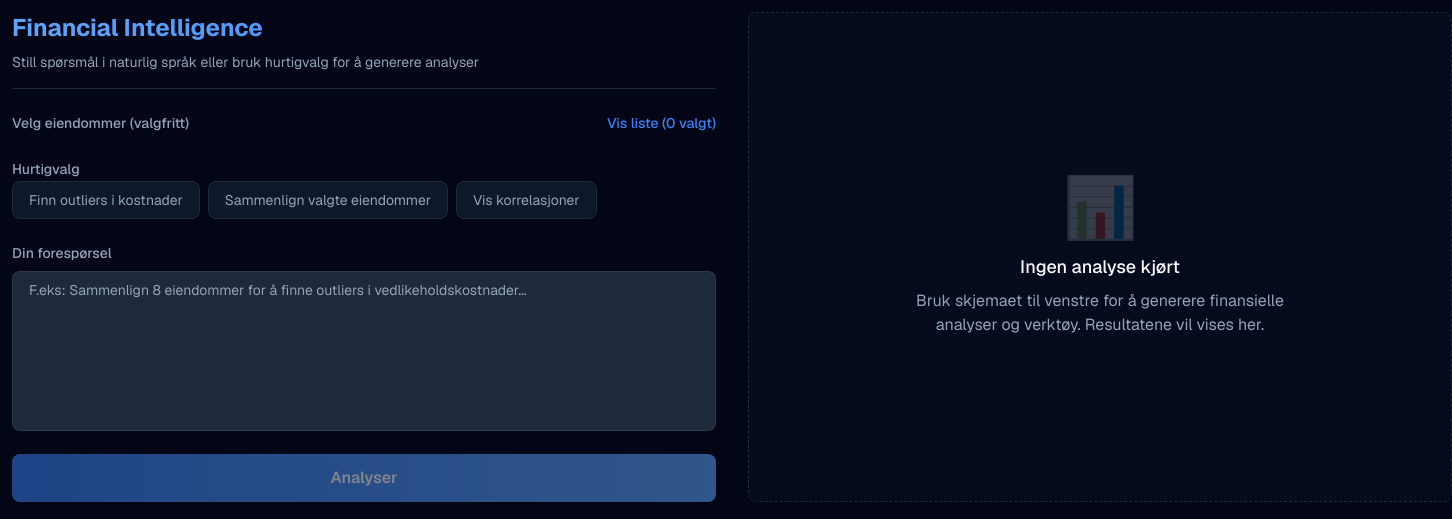
Test: FinancialQueryPanel › submits query and displays result
Replace the text in the text box with placeholder "Sammenlign 8 eiendommer" with "Finn outliers" at (364, 351), box [12, 271, 716, 431]
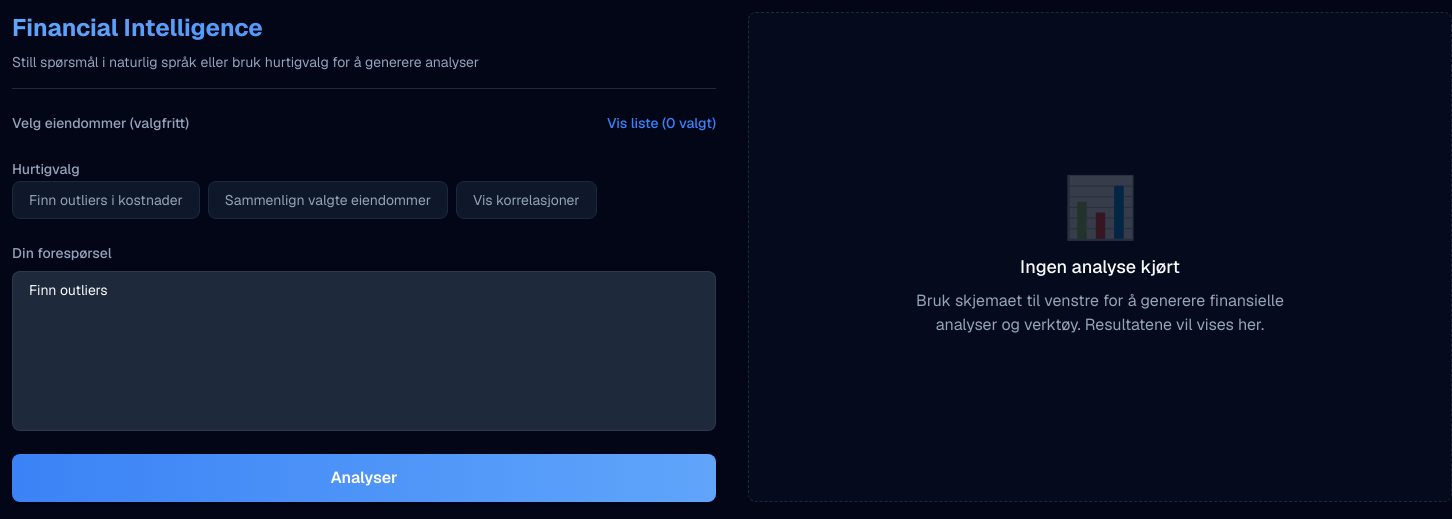
Click the button "Analyser".
click(364, 478)  # box [12, 454, 716, 502]
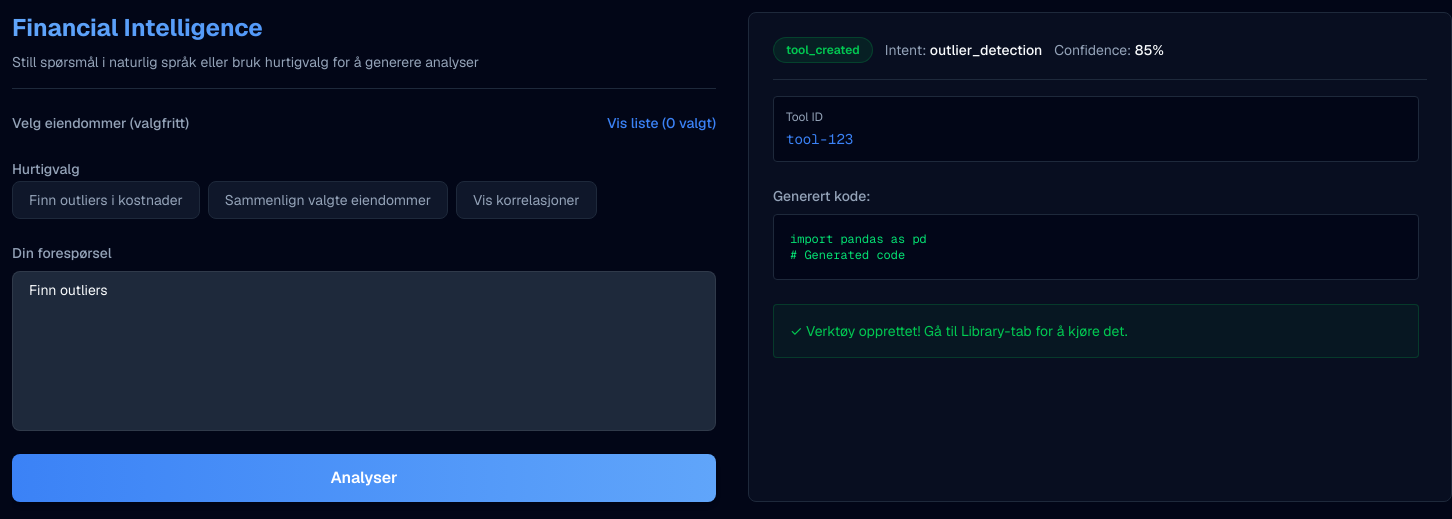
Now the text "tool_created" is shown, box [773, 37, 873, 63]
Now the text "outlier_detection" is shown, box [930, 41, 1042, 59]
Now the text "85%" is shown, box [1135, 41, 1164, 59]
